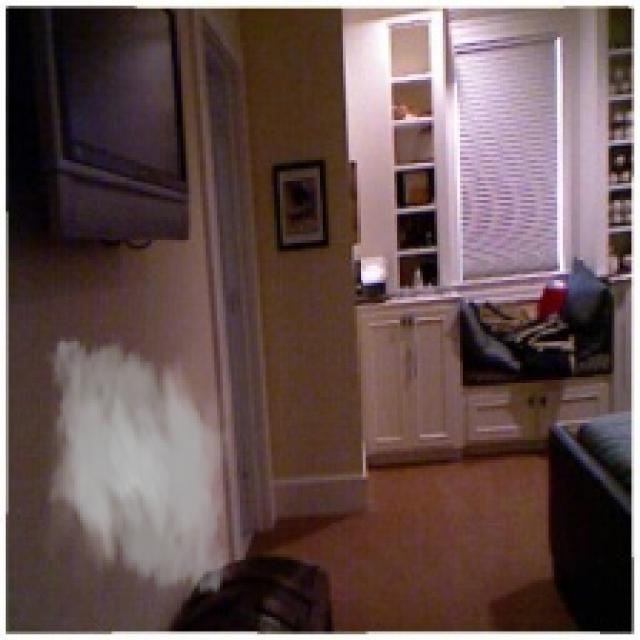smoke: (37, 326, 246, 606)
